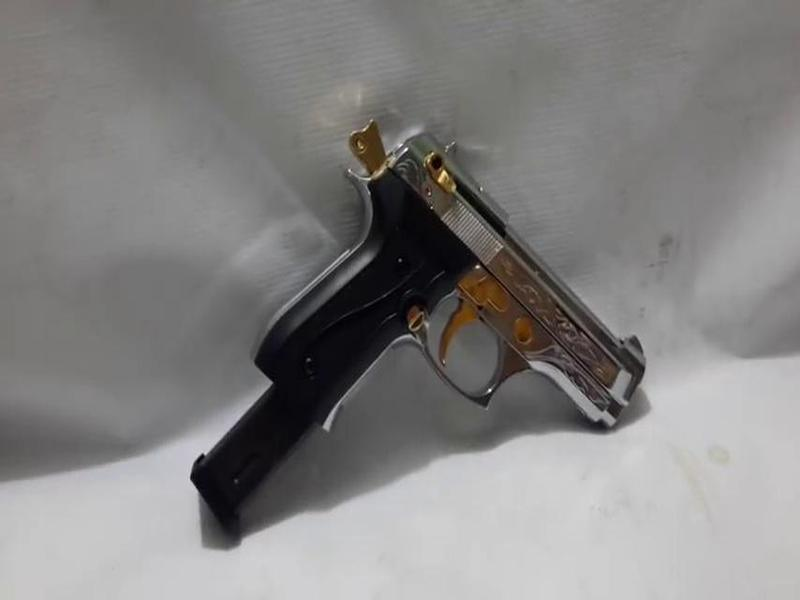Pistola: (254, 108, 679, 467)
